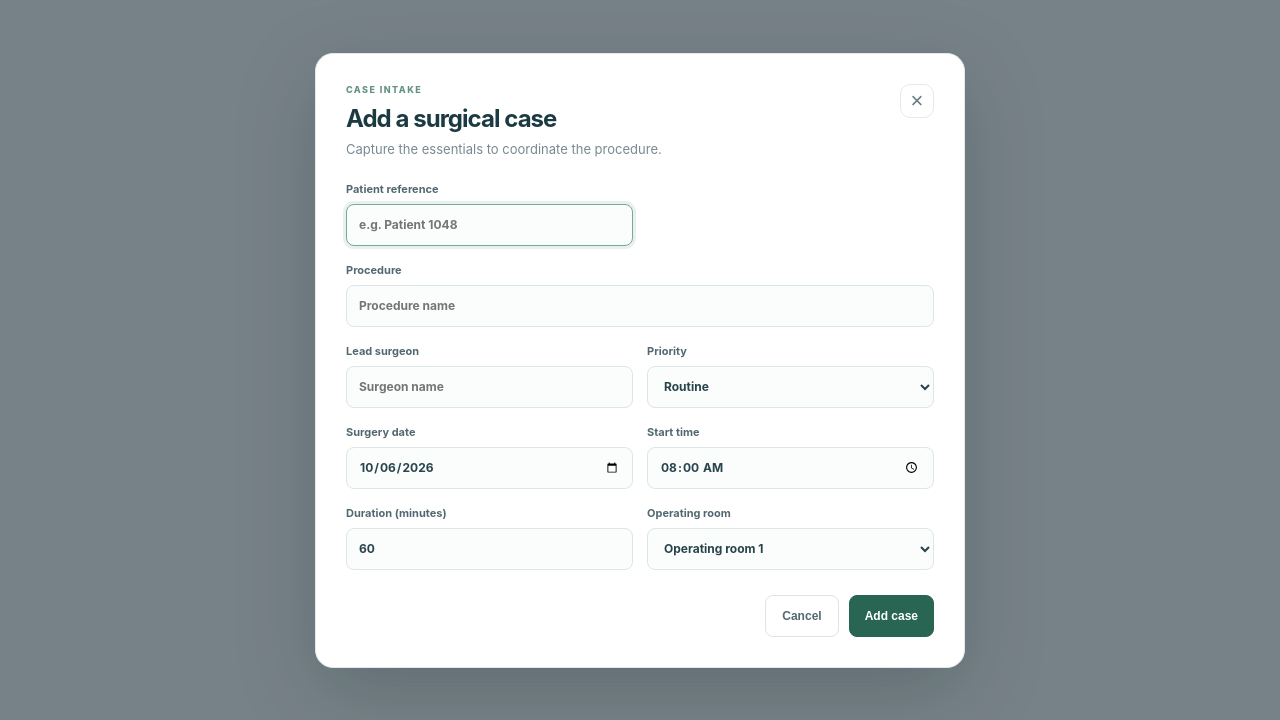
Test: CaseForm › keeps the form open and shows a conflict returned by scheduling
Type "Patient 6402" into the field labelled "Patient reference" at (490, 224), box [346, 204, 633, 246]
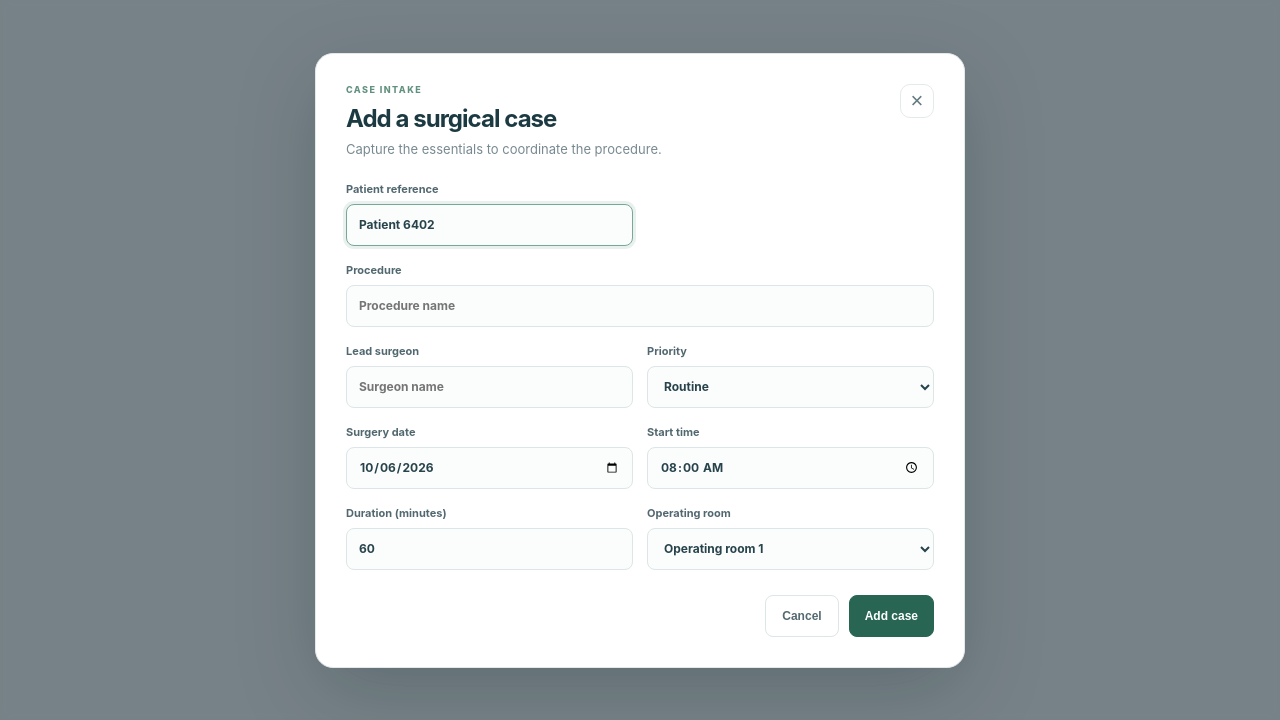
Type "Appendectomy" into the field labelled "Procedure" at (640, 306), box [346, 284, 934, 326]
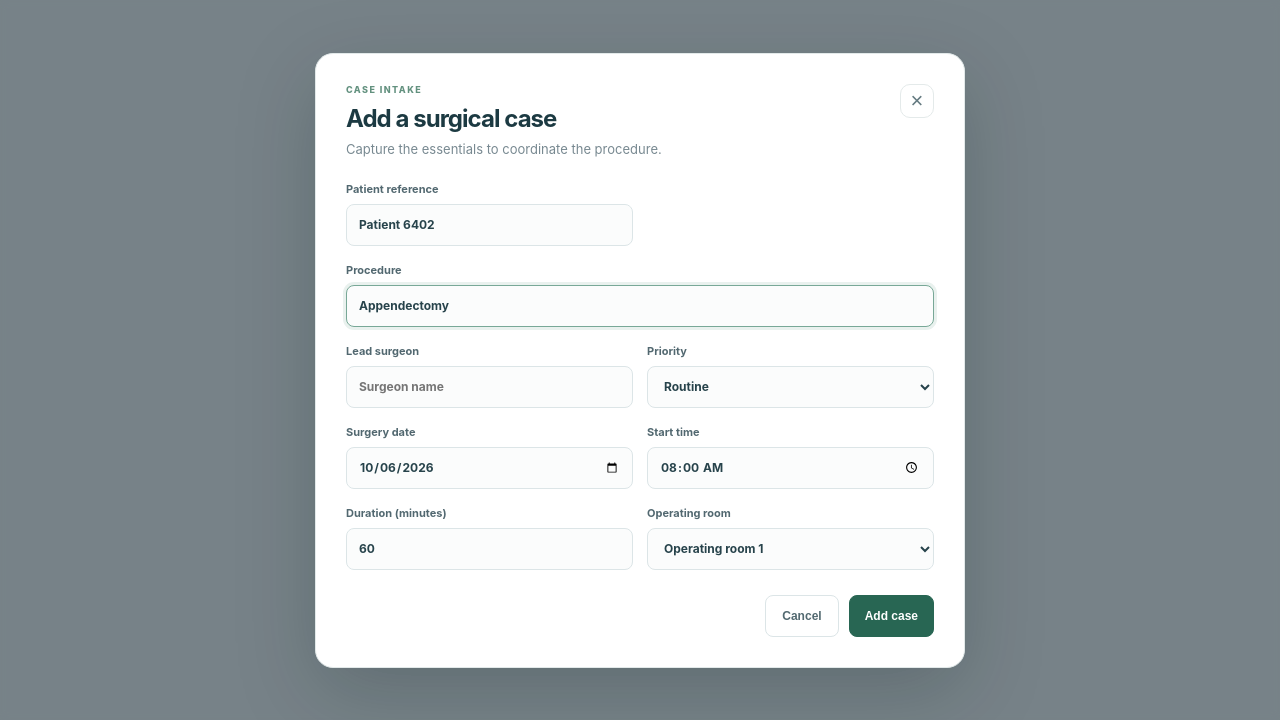
Type "Dr. Casey Stone" into the field labelled "Lead surgeon" at (490, 386), box [346, 366, 633, 408]
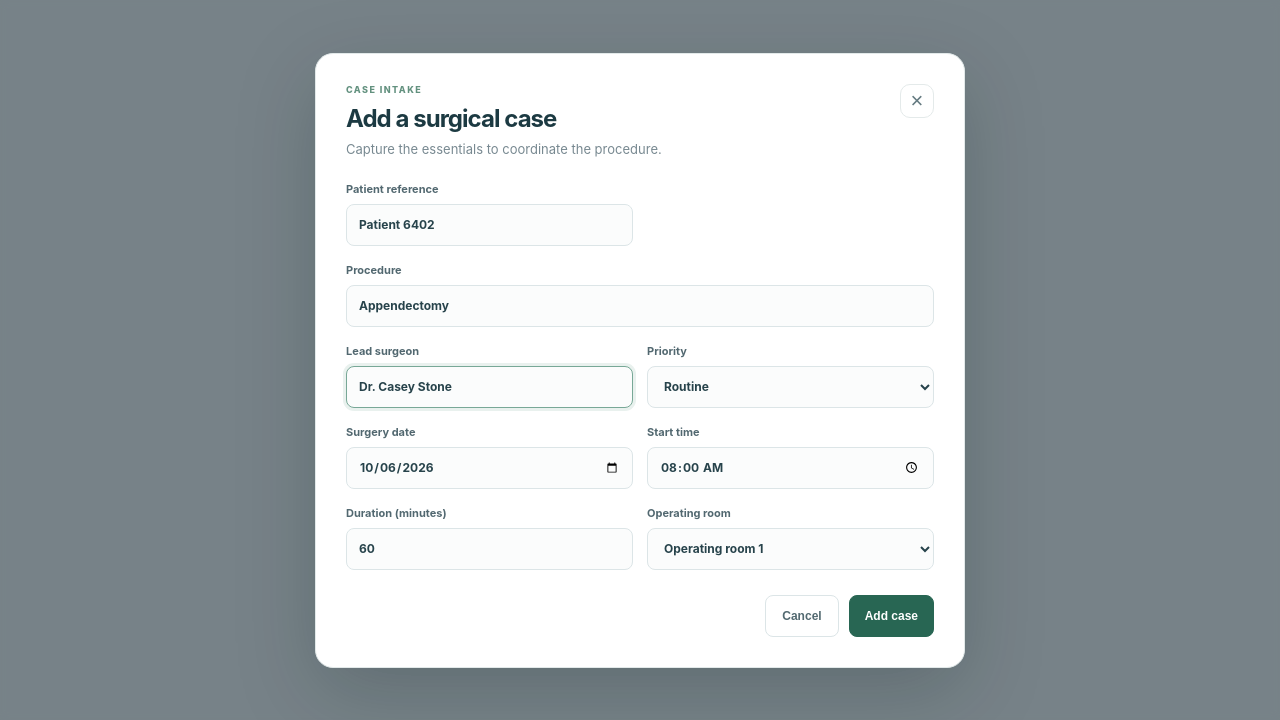
Click the button "Add case" at (891, 616), box [849, 594, 934, 636]
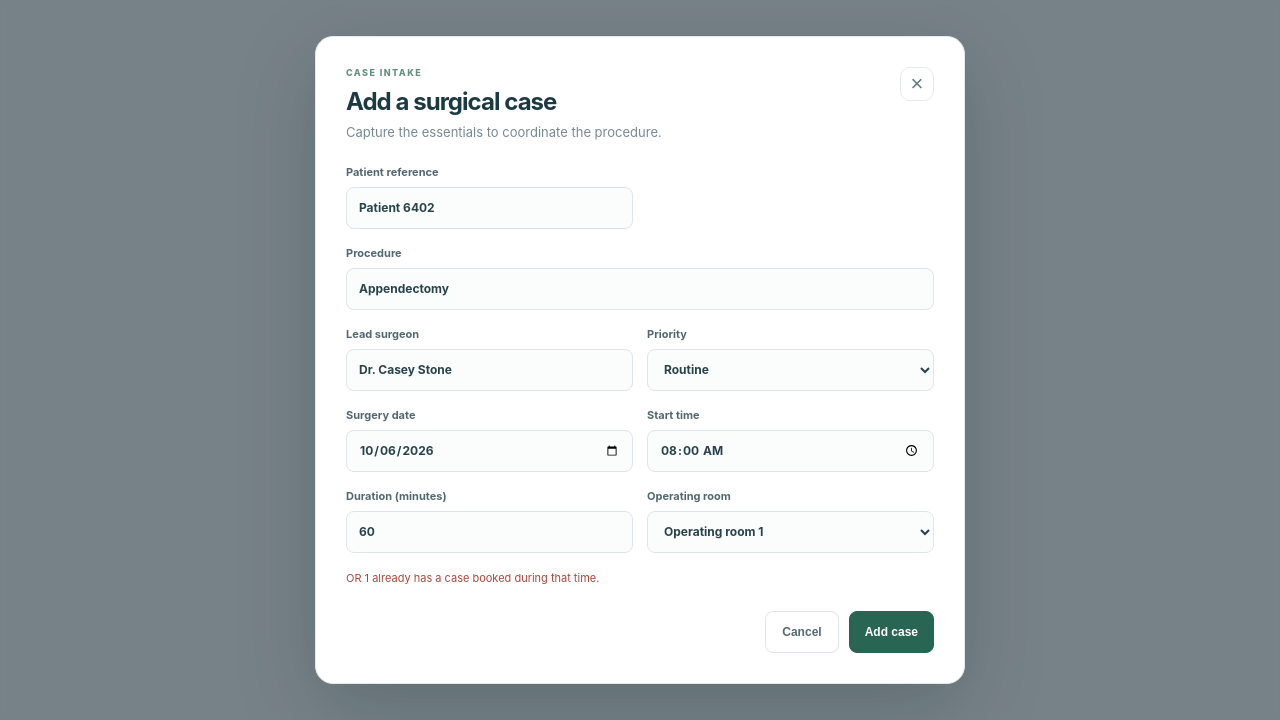
Expected: the dialog is shown, [315, 36, 965, 684]
Expected: the message shows "OR 1 already has a case booked", [346, 571, 599, 585]
